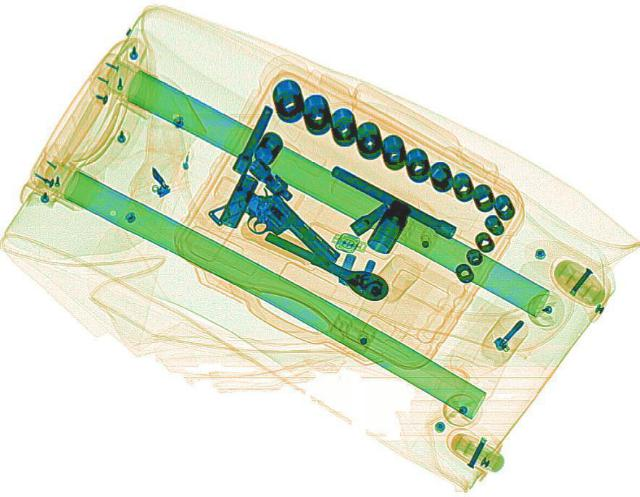Gun: (204, 180, 344, 289)
